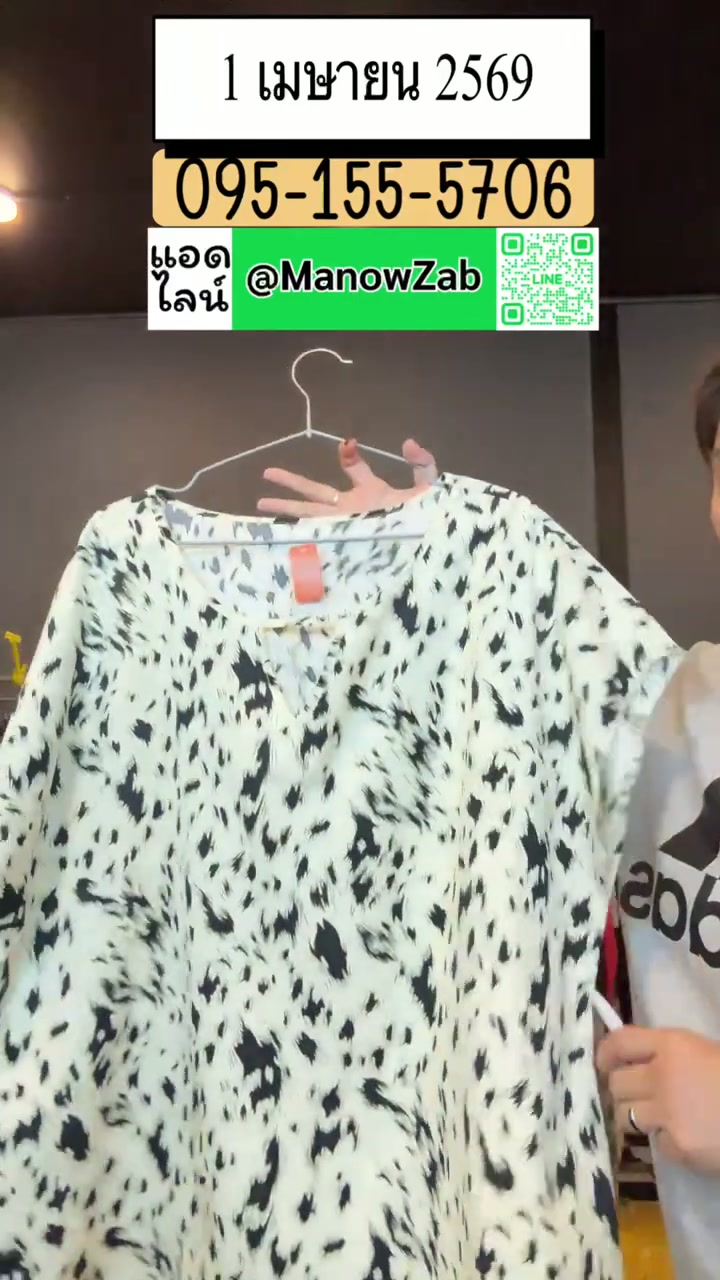display_shirt: (0, 476, 676, 1279)
